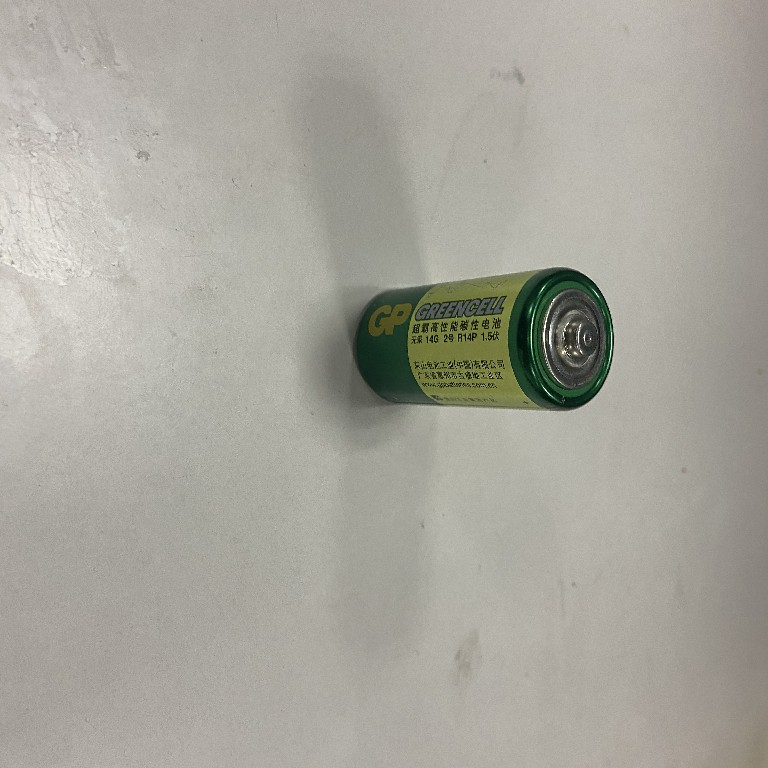charge: (350, 264, 620, 416)
